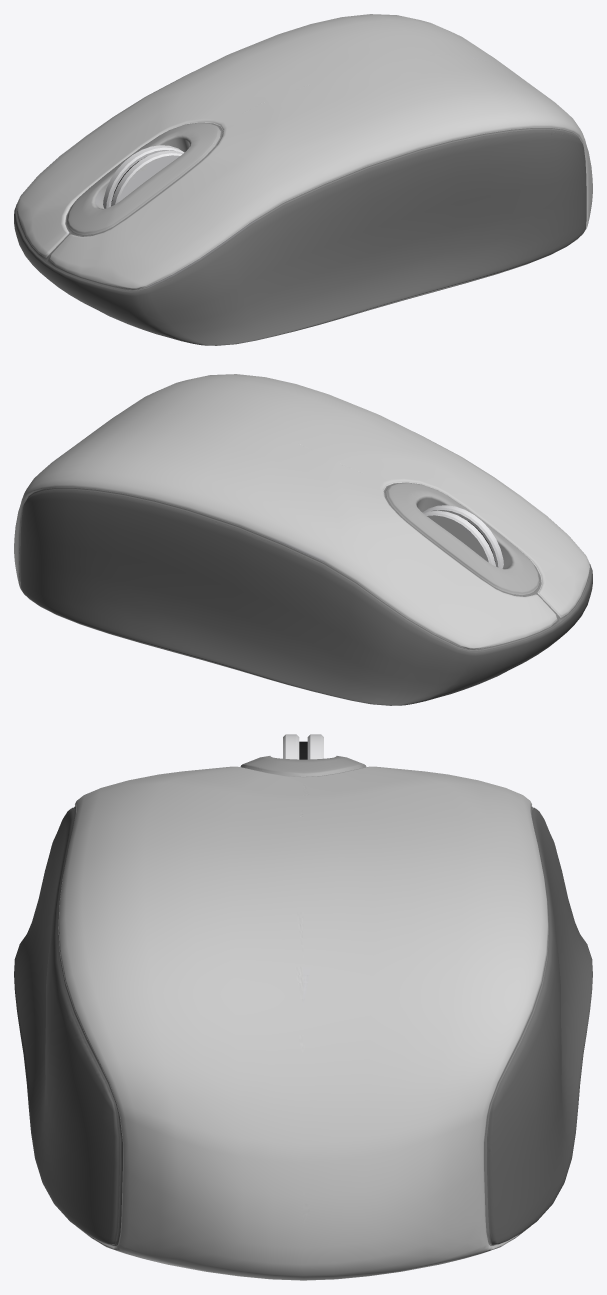
File: mouse.glb
3 renders of one model, top to bottom at view 1: azimuth 30°, elevation 25°; view 2: azimuth 150°, elevation 25°; view 3: azimuth 270°, elevation 25°, orthographic. The views are drawn at different scales.
Visible parts, largest first — view 1: mouse.002; view 2: mouse.002; view 3: mouse.002.
Boxes of the visible parts, box(x1,y1,x2,y2) form: mouse.002: box(14, 14, 592, 345); mouse.002: box(14, 374, 592, 705); mouse.002: box(14, 734, 592, 1280).
Bounding box in the file's own units: 0.1242 × 0.0376 × 0.0719.
Materials: 1 (1 with a texture image).
